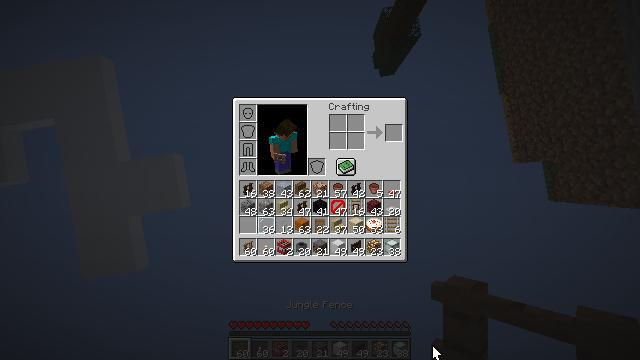cursor: (432, 345, 442, 360)
